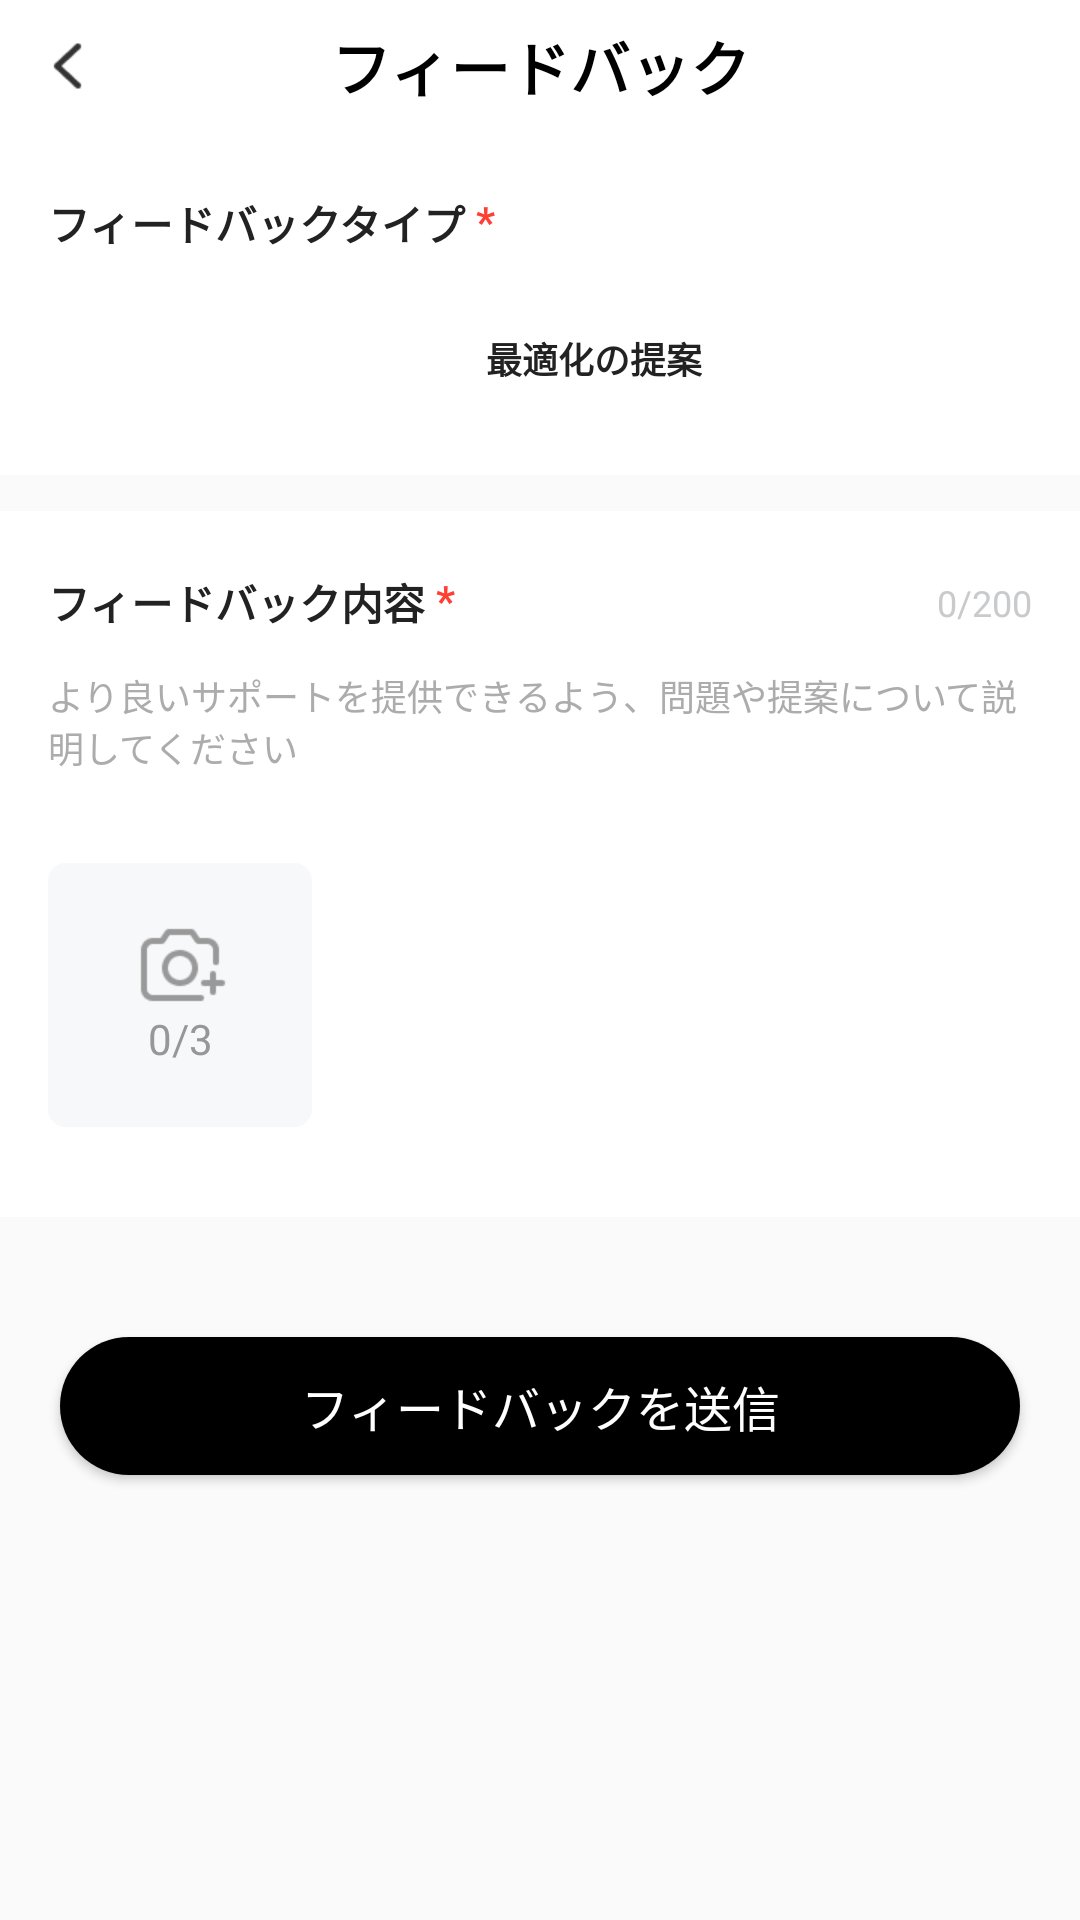

Locate icon controls on the screen. Image size 1080x1920, boxes as (left=x1, top=y1, right=x2, bottom=y2).
back: (left=53, top=43, right=82, bottom=89)
